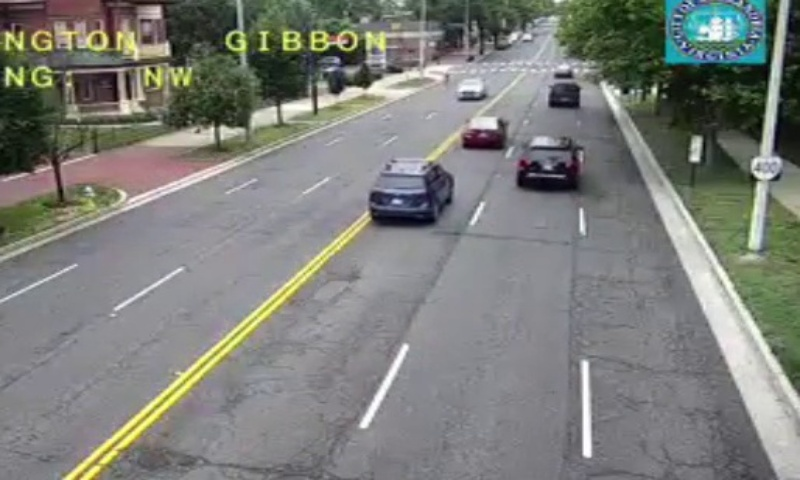car: (367, 159, 452, 218), (516, 134, 580, 182), (462, 117, 505, 148), (547, 83, 582, 108)
